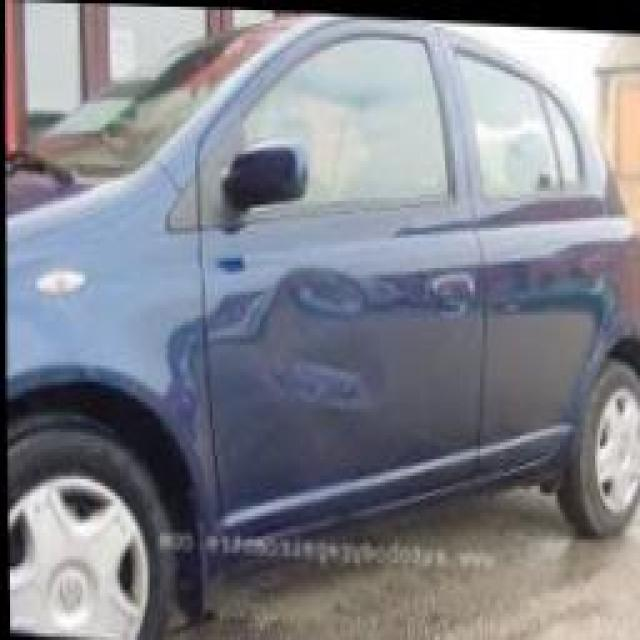Door: (205, 244, 393, 419)
